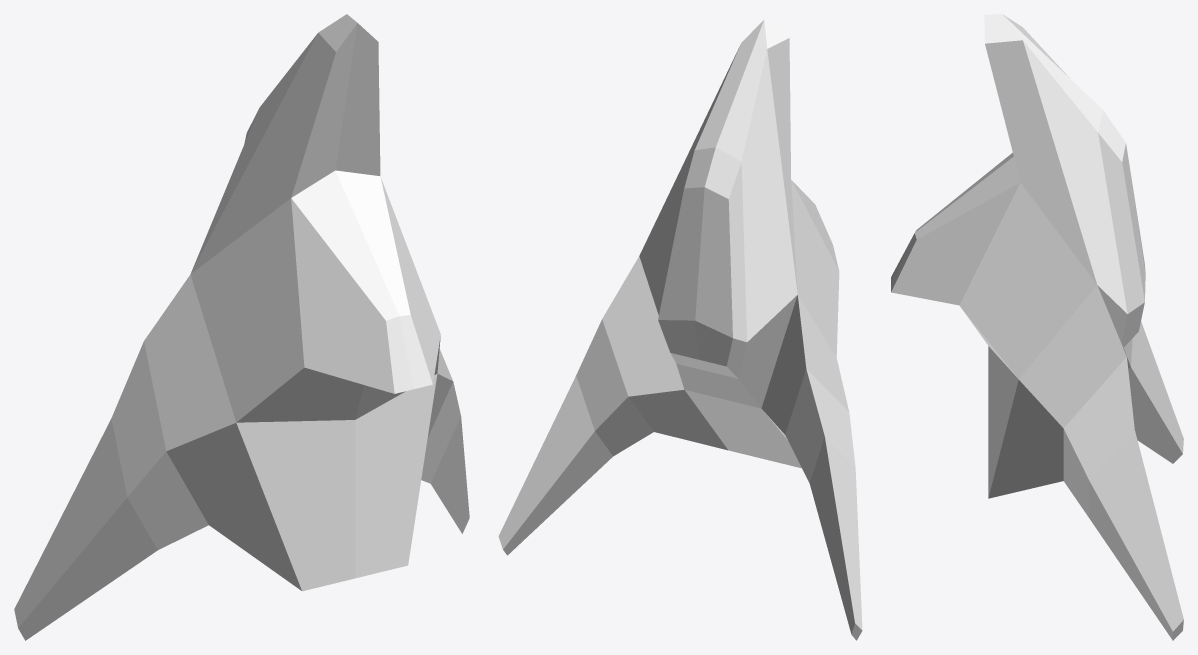
Rendered from head_11.fbx.
3 views of the same model, side by side, from view 1: azimuth 30°, elevation 25°; view 2: azimuth 150°, elevation 25°; view 3: azimuth 270°, elevation 25° (orthographic). The views are drawn at different scales.
Visible parts, largest first — view 1: Cube.134; view 2: Cube.134; view 3: Cube.134.
Boxes of the visible parts, <box> form: Cube.134: <box>14,14,469,640</box>; Cube.134: <box>498,14,862,640</box>; Cube.134: <box>891,14,1183,640</box>.
Bounding box in the file's own units: 31.65 × 43.45 × 21.41.
